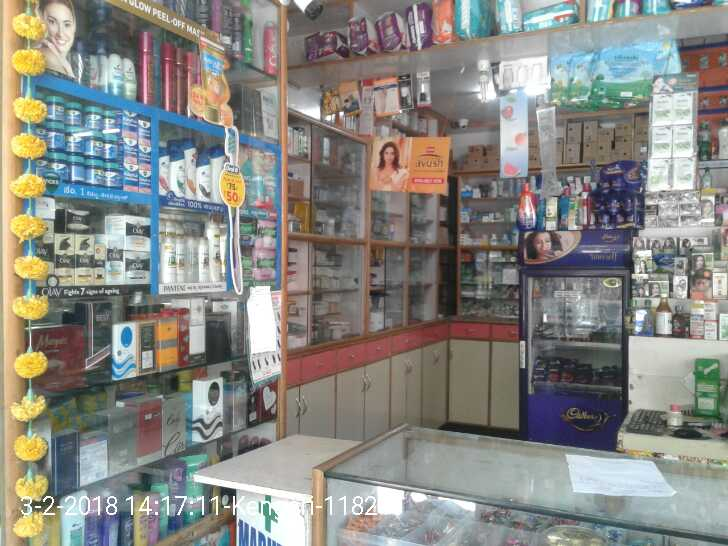beauty: (72, 231, 96, 292), (202, 222, 228, 278), (122, 243, 149, 287), (121, 212, 153, 249), (192, 159, 216, 207), (54, 238, 76, 288), (177, 233, 199, 282), (158, 225, 175, 287), (166, 144, 184, 196), (180, 141, 195, 200), (107, 232, 121, 283)
pharmacy: (36, 146, 87, 184), (250, 144, 278, 209), (229, 212, 278, 246), (35, 88, 68, 125), (124, 159, 152, 197), (88, 161, 126, 188), (42, 124, 83, 149), (252, 245, 278, 282), (86, 135, 122, 160), (119, 135, 151, 159), (120, 107, 147, 135), (87, 106, 113, 134), (64, 97, 80, 128)
